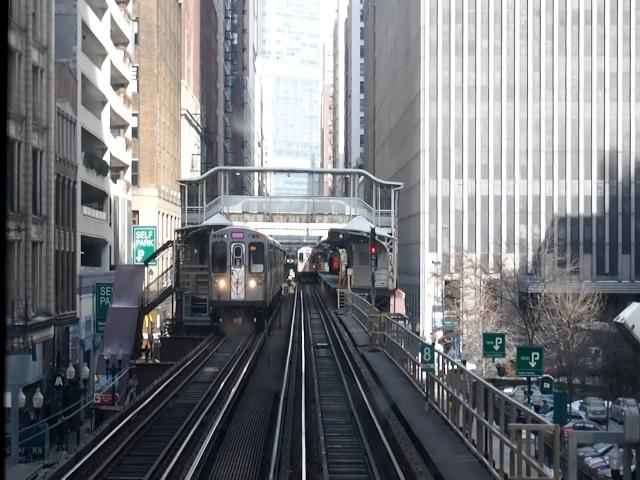signal light: (370, 226, 381, 270)
